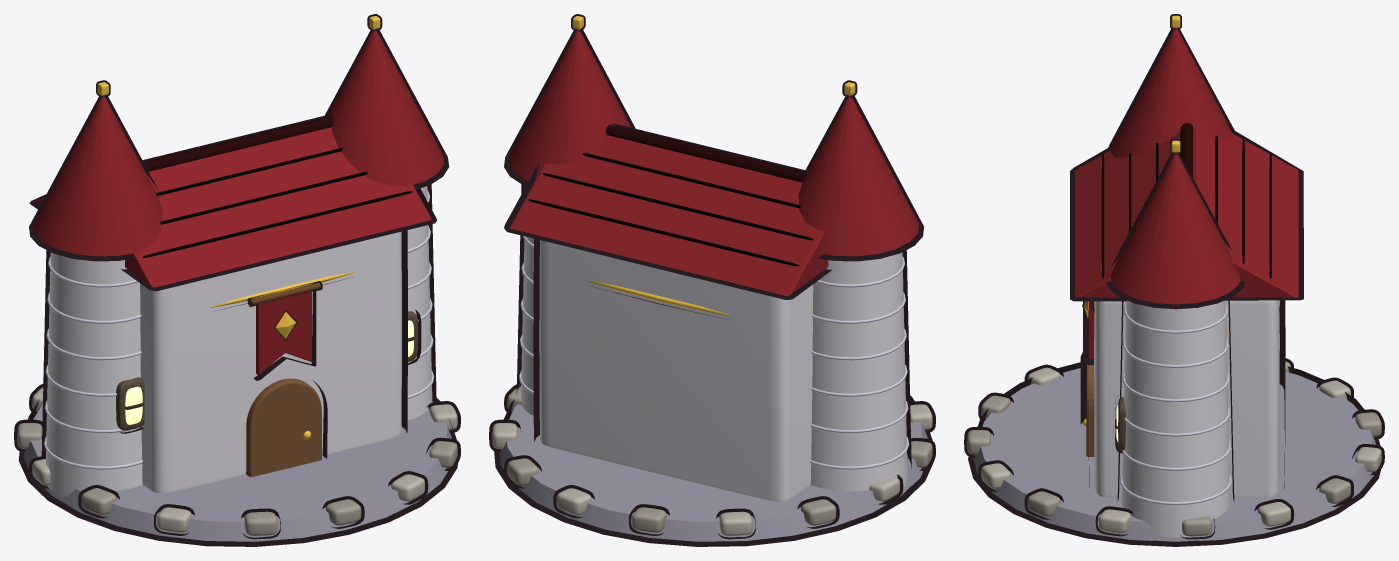
File: tower_barracks.glb
The picture shows the model from 3 angles, left to right: view 1: azimuth 30°, elevation 25°; view 2: azimuth 150°, elevation 25°; view 3: azimuth 270°, elevation 25°; orthographic projection. The views are drawn at different scales.
Visible parts, largest first — view 1: turret (×2), object 34, object 36, object 2, door, banner, object 1, object 38, win (×2), object 35, object 33, object 40 (+11 smaller); view 2: object 34, turret (×2), object 36, object 2, object 1, object 38, object 35, object 33, object 39, object 41, object 43, object 22 (+7 smaller); view 3: turret (×2), object 2, object 36, object 34, object 1, object 35, door, object 33, banner, object 10, object 14, object 8 (+6 smaller).
Part boxes in pixels (x1,y1,x2,y2): turret (×2): (29, 14, 448, 504); object 34: (140, 231, 401, 493); object 36: (35, 127, 431, 287); object 2: (23, 402, 451, 541); door: (246, 378, 327, 477); banner: (247, 281, 322, 380); object 1: (18, 394, 457, 546); object 38: (143, 116, 333, 171); win (×2): (116, 309, 421, 433); object 35: (29, 114, 436, 291); object 33: (401, 230, 407, 433); object 40: (142, 191, 413, 257); object 34: (539, 240, 813, 501); turret (×2): (504, 14, 923, 504); object 36: (510, 135, 828, 295); object 2: (499, 404, 927, 541); object 1: (494, 395, 933, 546); object 38: (605, 124, 806, 182); object 35: (504, 123, 832, 299); object 33: (533, 238, 539, 441); object 39: (528, 199, 798, 266); object 41: (542, 173, 813, 240); object 43: (582, 153, 801, 208); object 22: (719, 511, 752, 535); turret (×2): (1106, 14, 1245, 542); object 2: (973, 368, 1376, 541); object 36: (1075, 130, 1298, 297); object 34: (1094, 300, 1279, 497); object 1: (968, 362, 1380, 546); object 35: (1070, 128, 1303, 301); door: (1080, 352, 1094, 456); object 33: (1088, 300, 1285, 488); banner: (1082, 301, 1094, 364); object 10: (1098, 509, 1131, 533); object 14: (1257, 502, 1290, 526); object 8: (1027, 491, 1060, 516).
Size of the model in its own units: 1.99 by 1.94 by 1.92.
